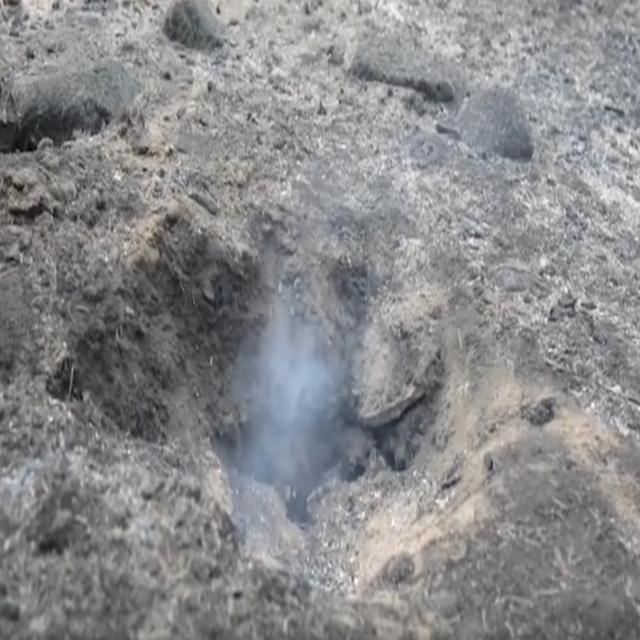Smoke: (221, 256, 349, 554)
